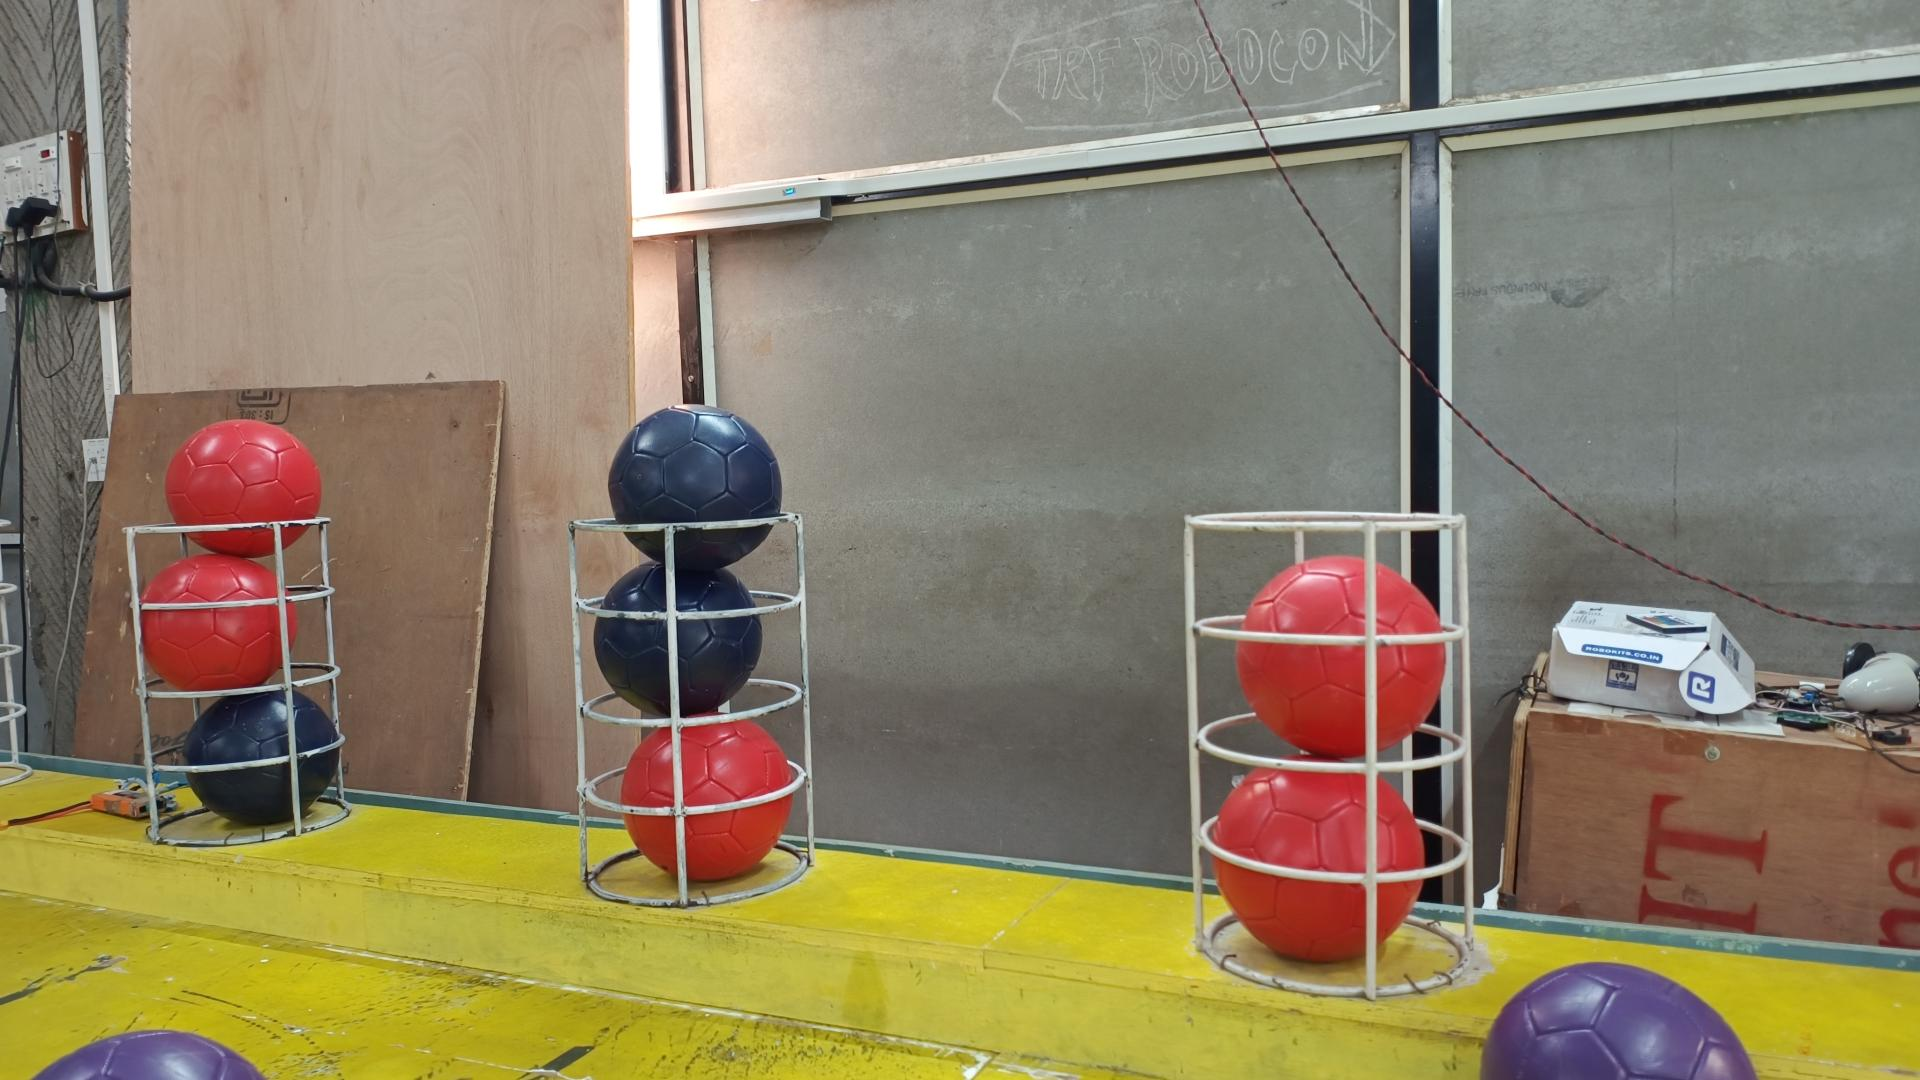dhoka: (607, 405, 783, 574), (592, 559, 765, 717), (183, 687, 340, 825)
laale: (1234, 556, 1444, 760), (1213, 765, 1431, 960), (621, 719, 794, 884), (165, 417, 323, 556), (146, 555, 303, 694)
